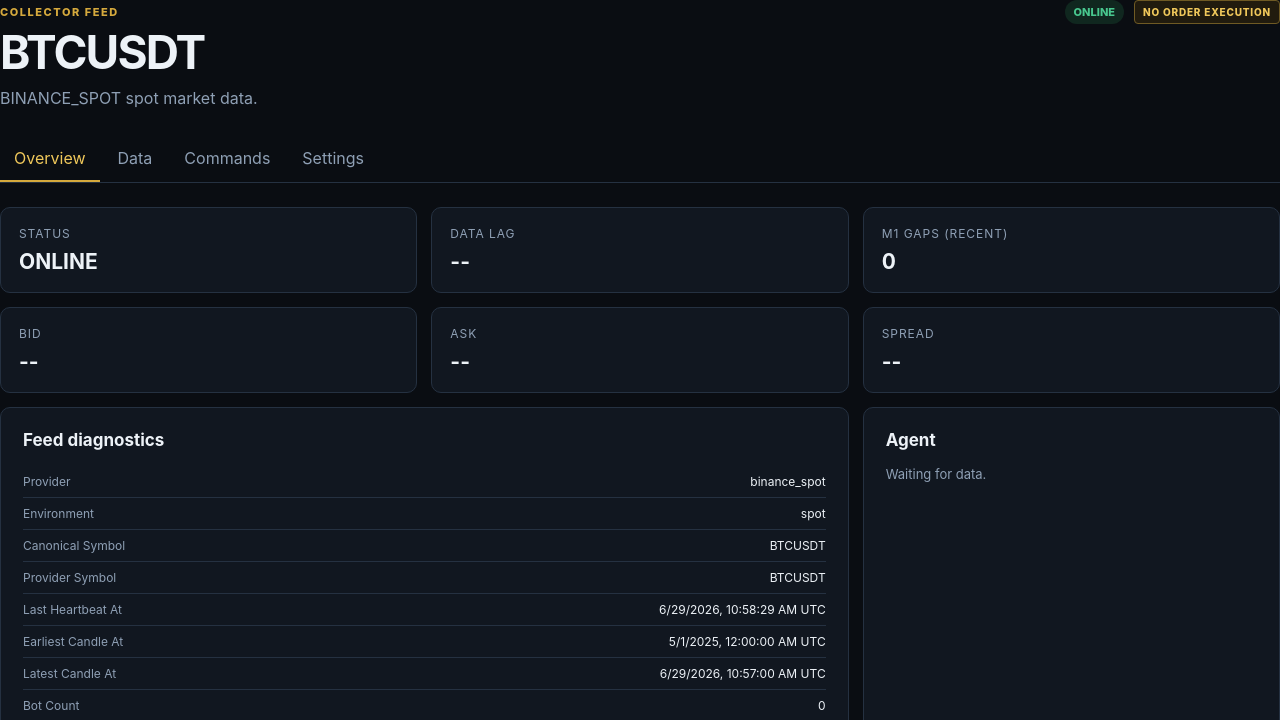
Test: Collector feed Data tab › loads continuity only when Data is selected and separates full from recent health
Click the button "Data".
click(135, 159)  # box [104, 136, 166, 182]
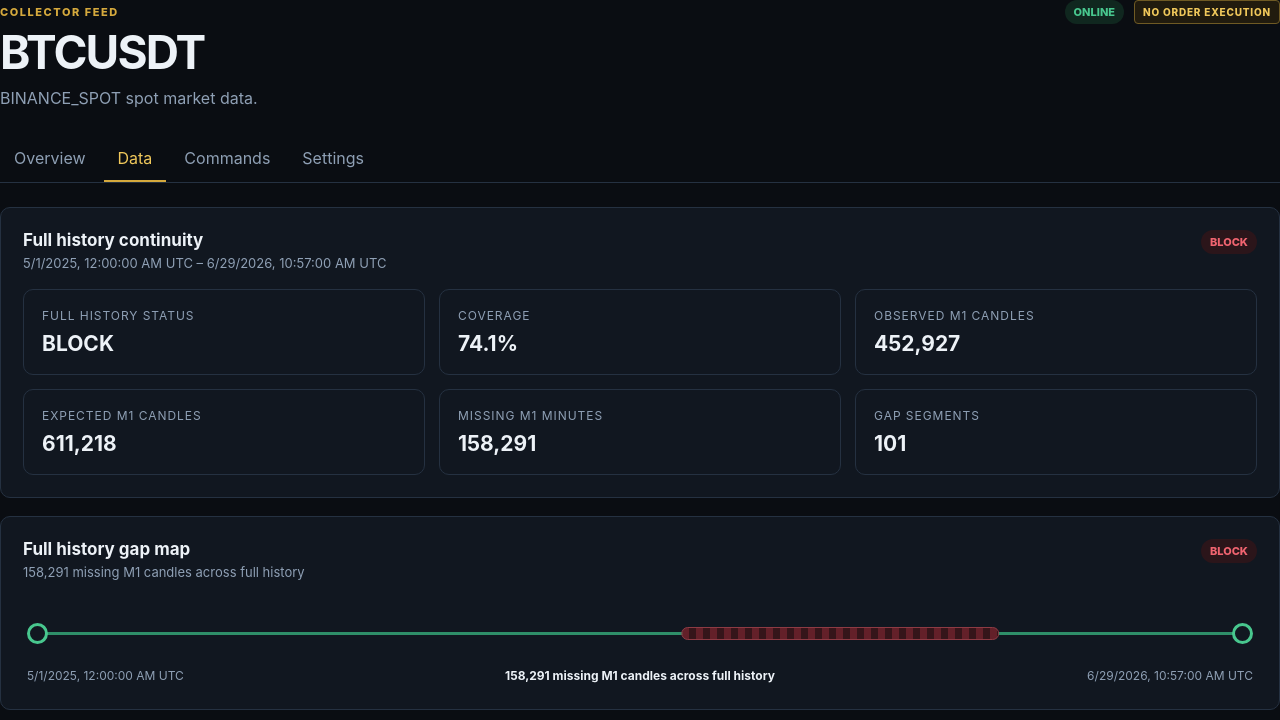
Check: the heading "Full history continuity" is shown, box [23, 230, 203, 250]
Check: the text "BLOCK" in the row of "Full history continuity" is shown, box [1210, 235, 1248, 249]
Check: the text "5/1/2025, 12:00:00 AM UTC – 6/29/2026, 10:57:00 AM UTC" is shown, box [23, 255, 386, 271]
